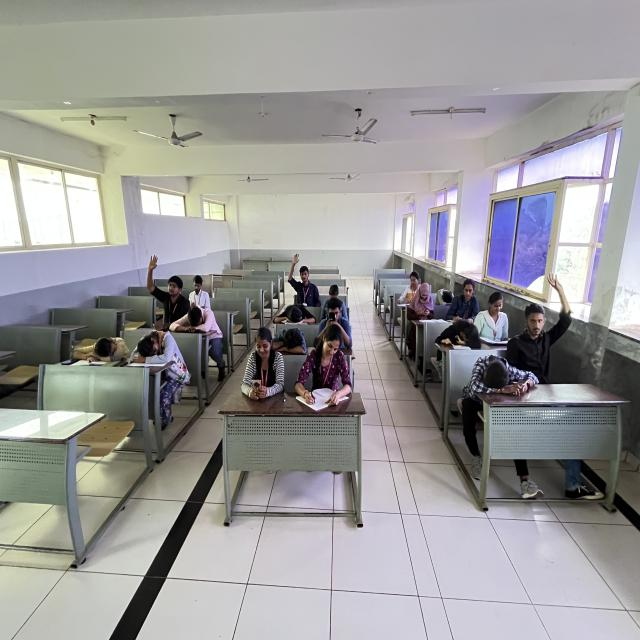Hand Rising: (500, 269, 592, 371), (127, 245, 194, 326), (287, 250, 327, 321)
Reading: (473, 283, 529, 348), (187, 259, 230, 313), (394, 274, 426, 306)
Sleeping: (460, 347, 538, 436), (65, 326, 135, 396), (168, 291, 230, 356), (130, 332, 194, 394), (437, 304, 488, 359), (265, 314, 313, 362), (272, 298, 318, 336), (436, 270, 460, 311)
Using Phone: (237, 324, 292, 419), (317, 305, 365, 352), (410, 282, 449, 338)
Writing: (289, 323, 369, 413), (446, 277, 490, 327)
